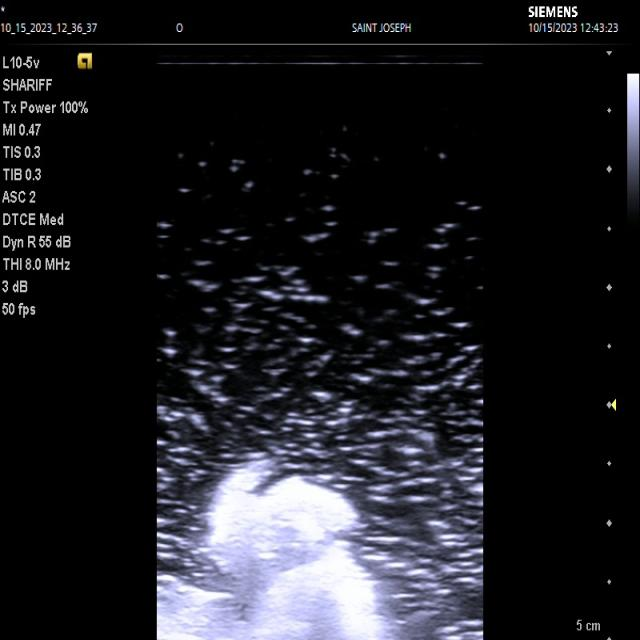tissue: (157, 473, 412, 640)
